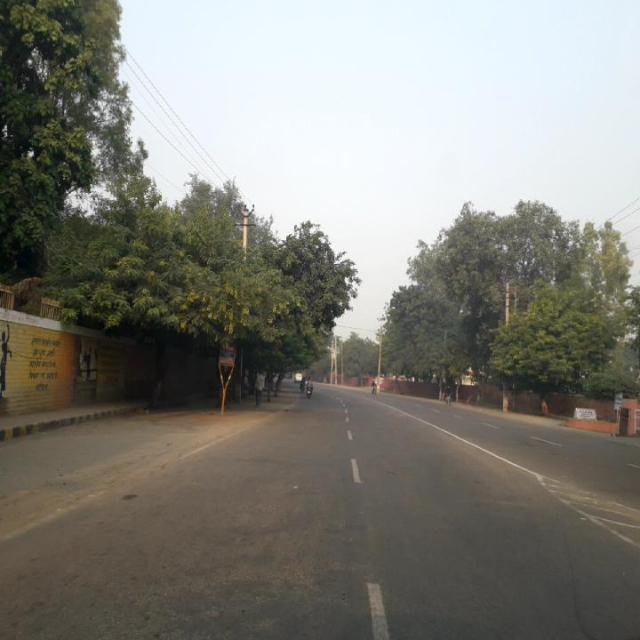D40: (138, 557, 313, 639)
D44: (526, 461, 638, 539), (2, 488, 114, 536), (116, 436, 228, 484)
